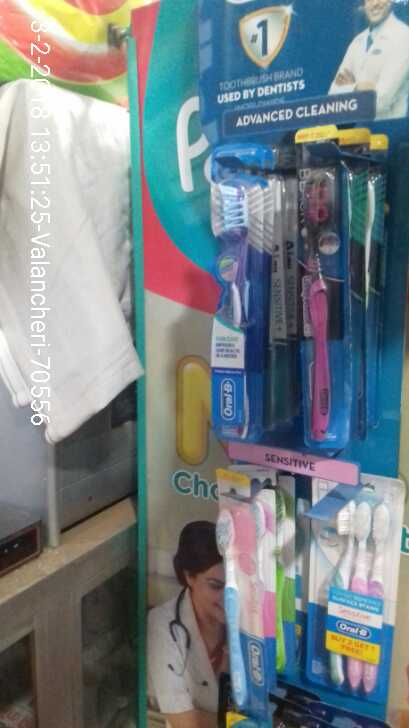oralb: (306, 473, 400, 699), (202, 158, 269, 432), (291, 137, 339, 413), (208, 482, 259, 705)
